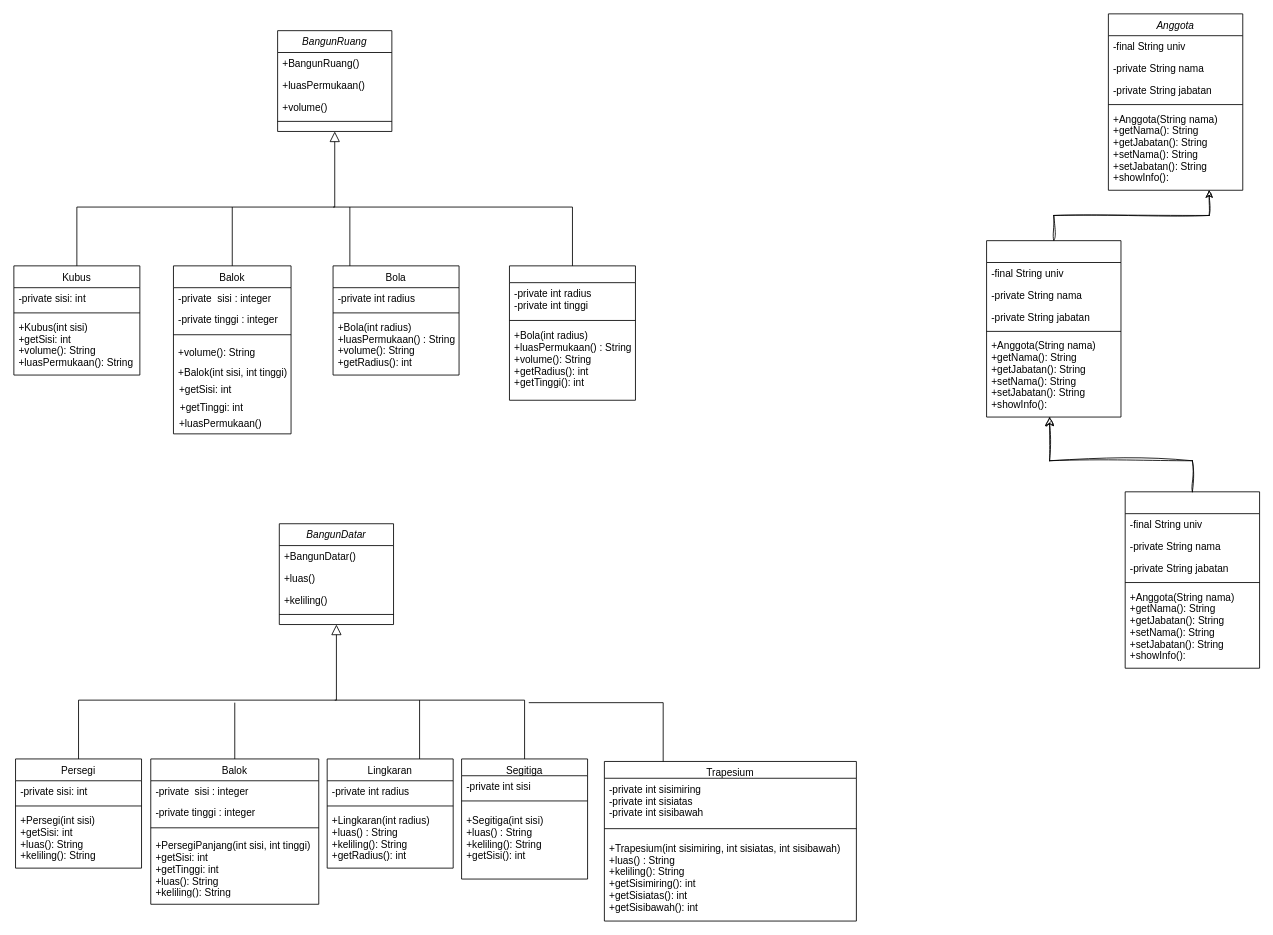
The diagram is 1273 pixels wide and 935 high, and some of its shapes have lost their labels. The box of each missing label's shape, as (x1, y1, x2, y2) in pixels:
KoorStaff: (1124, 491, 1260, 668)
PengurusInti: (986, 240, 1121, 417)
Tabung: (509, 265, 635, 400)
